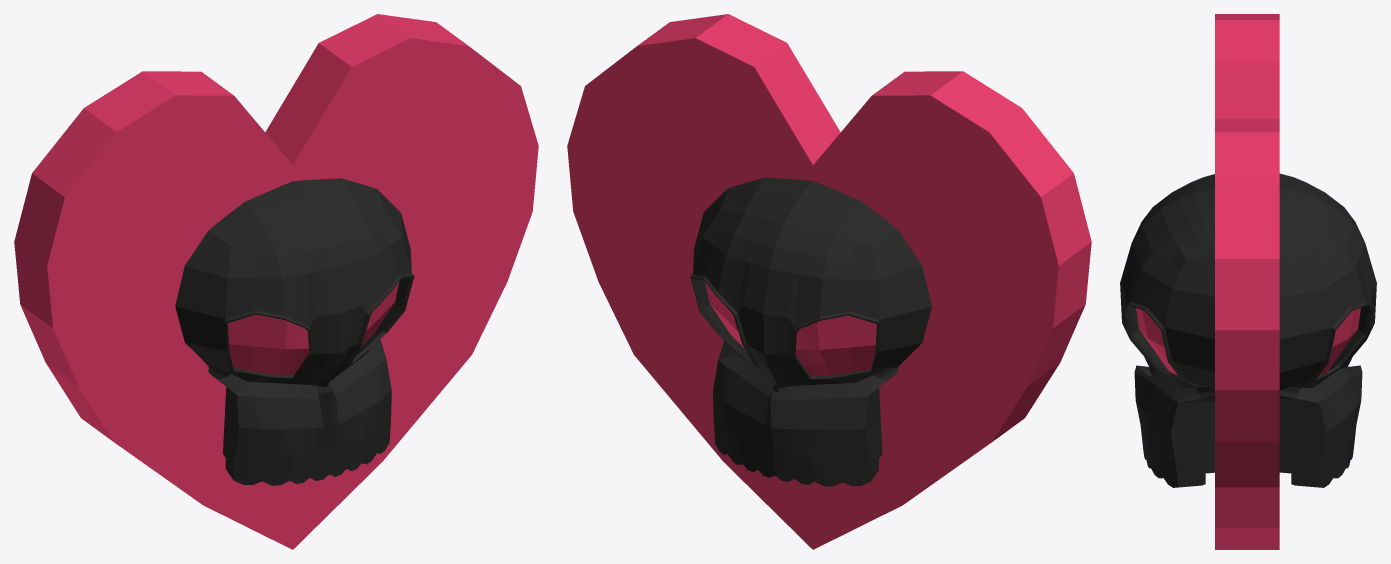
File: vida_enemigos.fbx
3 renders of one model, left to right at view 1: azimuth 30°, elevation 25°; view 2: azimuth 150°, elevation 25°; view 3: azimuth 270°, elevation 25°, orthographic. The views are drawn at different scales.
Visible parts, largest first — view 1: vida_enemigos; view 2: vida_enemigos; view 3: vida_enemigos.
Boxes of the visible parts, x1,y1,x2,y2 form: vida_enemigos: (14, 14, 538, 549); vida_enemigos: (567, 14, 1091, 549); vida_enemigos: (1120, 14, 1376, 549).
Bounding box in the file's own units: 316 × 297 × 146.
